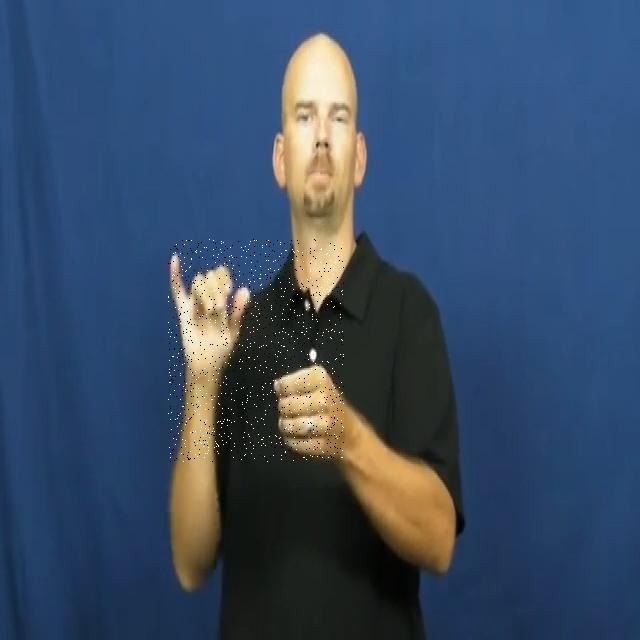soda: (168, 239, 344, 462)
